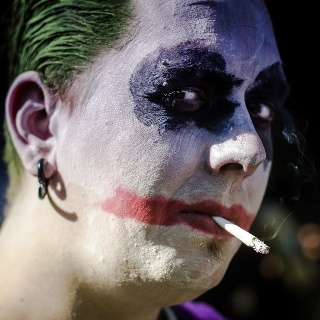without_mask: (53, 0, 291, 302)
